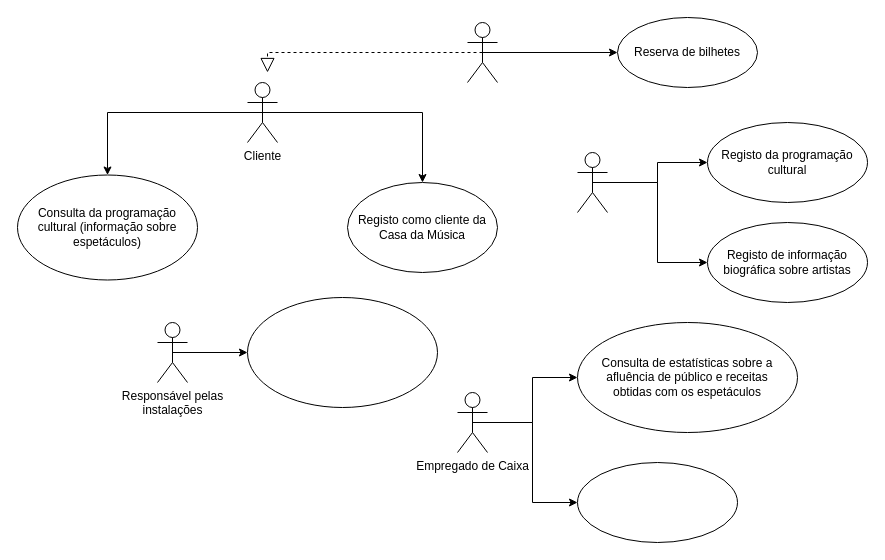
Image size: 885x560. Some labels were removed from this diagram. The centre of each missing label's shape, as x and y in pixels:
"Cliente registado" goes at (x=482, y=52).
"Registo de salas, divisão em sectores e lugares numerados" goes at (x=342, y=352).
"Responsável pela programação cultural" goes at (x=592, y=182).
"Venda de bilhetes, com ou sem reserva prévia" goes at (x=657, y=502).
